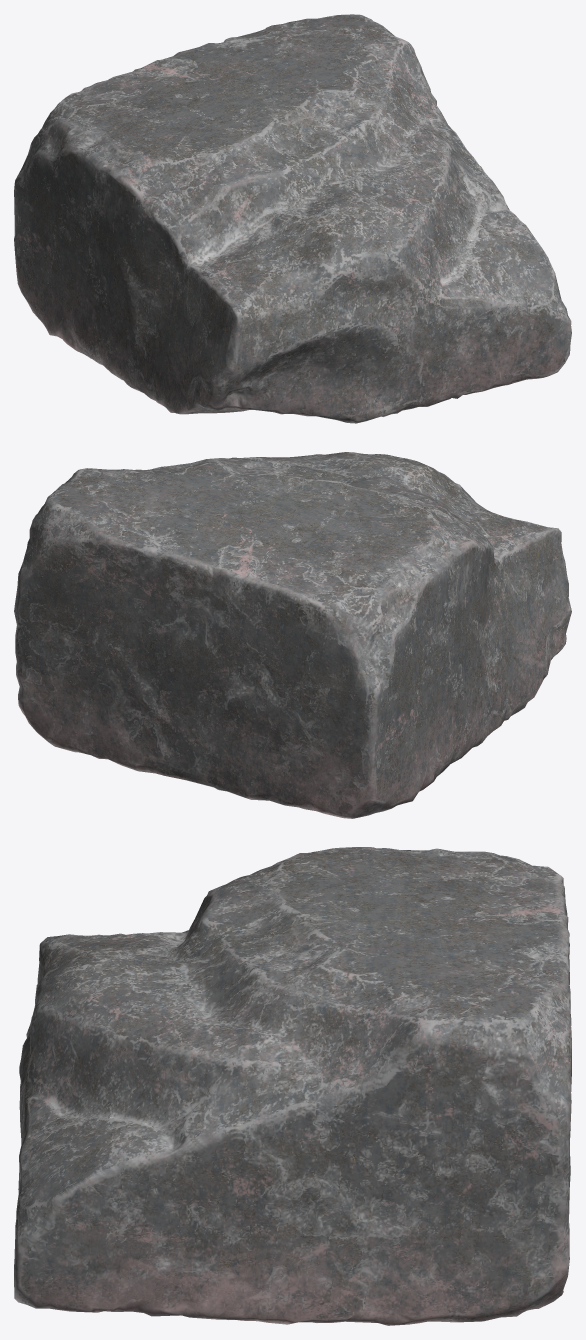
The model's file is Stone.glb.
The picture shows the model from 3 angles, top to bottom: view 1: azimuth 30°, elevation 25°; view 2: azimuth 150°, elevation 25°; view 3: azimuth 270°, elevation 25°; orthographic projection. The views are drawn at different scales.
Parts seen in each view (by area): view 1: boulder.2; view 2: boulder.2; view 3: boulder.2.
Boxes of the visible parts, left/top/right/bottom form: boulder.2: left=14, top=14, right=571, bottom=423; boulder.2: left=14, top=452, right=571, bottom=818; boulder.2: left=14, top=847, right=571, bottom=1325.
Bounding box in the file's own units: 0.0898 × 0.0565 × 0.0943.
1 material, 1 textured.
